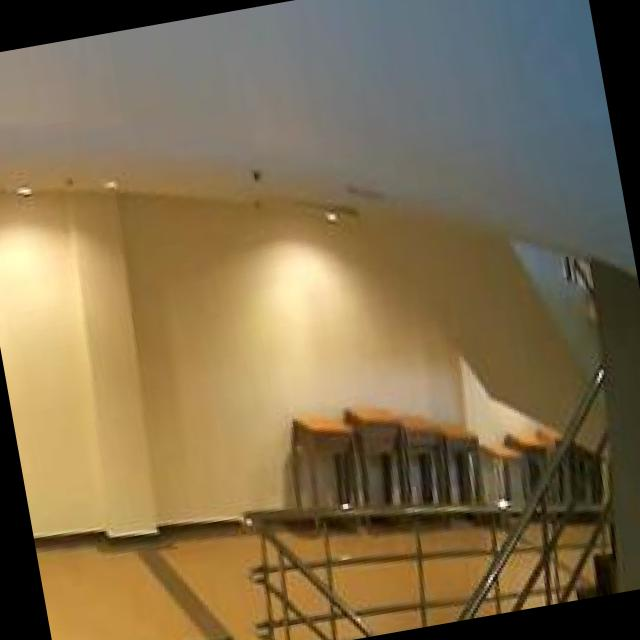Guns: (160, 605, 245, 640)
